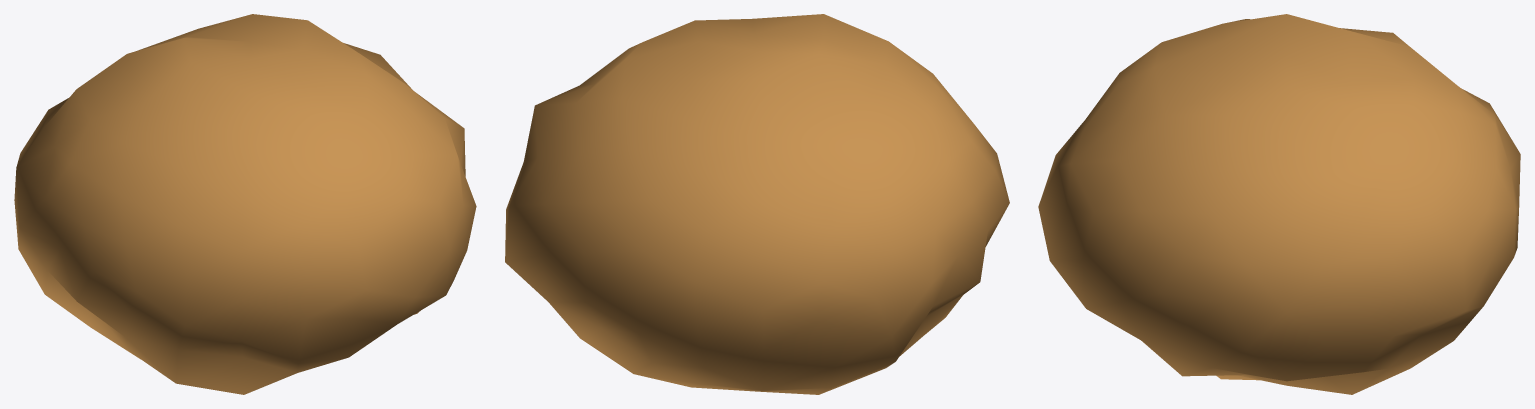
The model's file is short.glb.
The picture shows the model from 3 angles, left to right: view 1: azimuth 30°, elevation 25°; view 2: azimuth 150°, elevation 25°; view 3: azimuth 270°, elevation 25°; orthographic projection. The views are drawn at different scales.
Parts seen in each view (by area): view 1: world; view 2: world; view 3: world.
Part boxes in pixels (bbox=[...]): world: bbox=[14, 14, 476, 394]; world: bbox=[505, 14, 1009, 394]; world: bbox=[1038, 14, 1520, 394].
Size of the model in its own units: 18.06 by 13.12 by 17.83.
